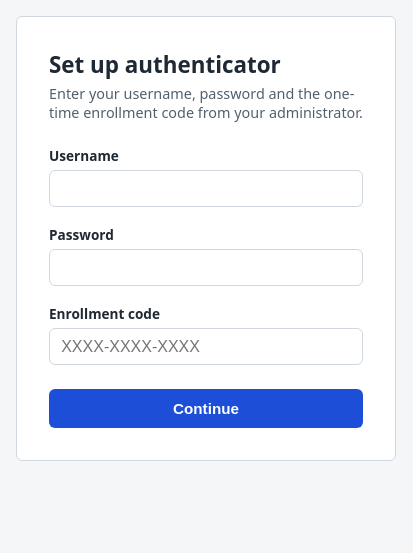
Test: EnrollPage (Phase 7A) › shows the backend's generic message when start fails and stays on the form
Type "alice" into the field labelled "Username". click: (206, 189)
box: [49,170,363,207]
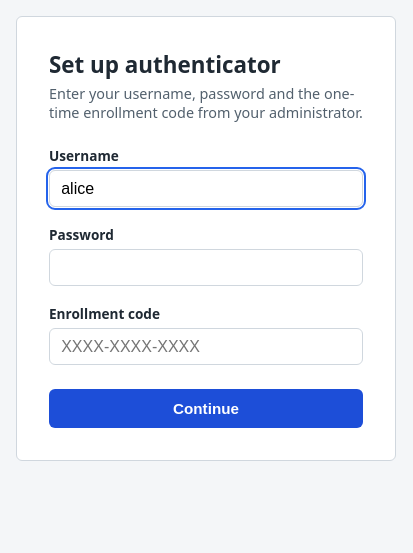
Type "Pa55word!pa55" into the password field labelled "Password". click: (206, 268)
box: [49,249,363,286]
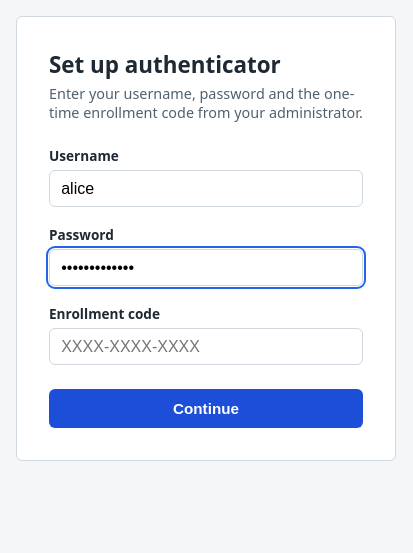
Type "ABCD-EFGH-JKMN" into the field labelled "Enrollment code". click: (206, 347)
box: [49,328,363,365]
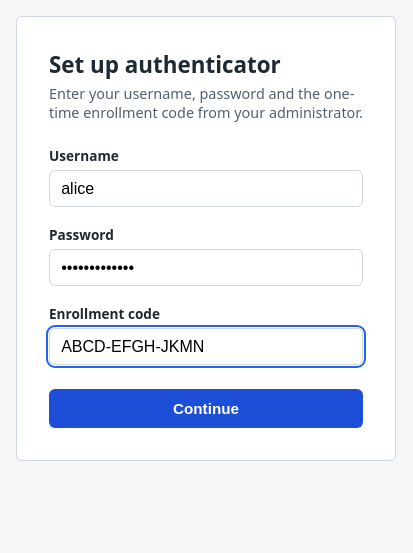
Click the button "Continue". click: (206, 408)
box: [49,389,363,428]
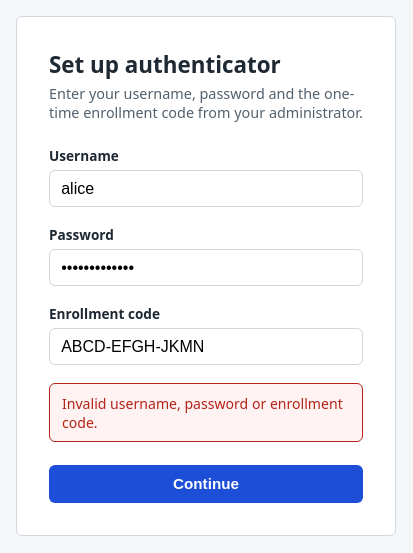
expect the message shows "Invalid username, password or enrollment code": met, box [62,394,343,432]
